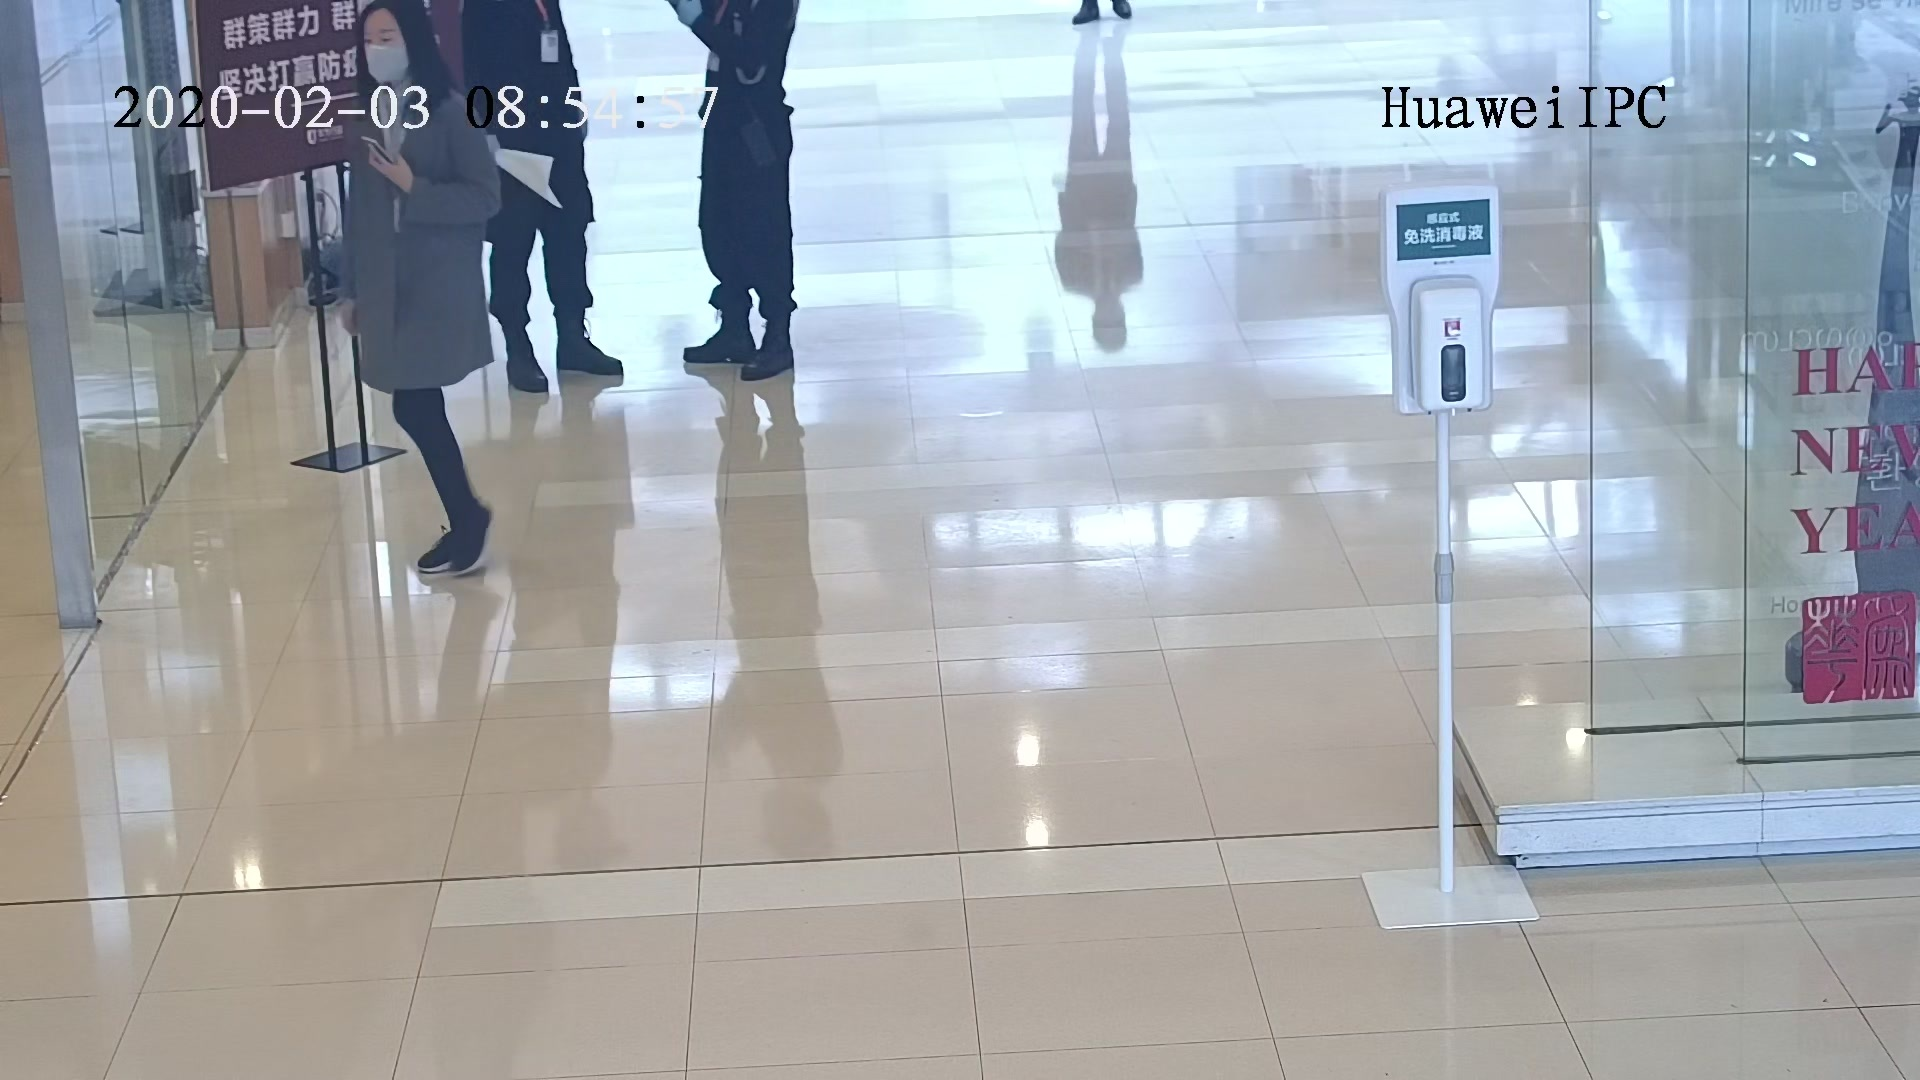face: (358, 10, 416, 90)
mask: (366, 46, 416, 90)
person: (334, 8, 490, 152)
